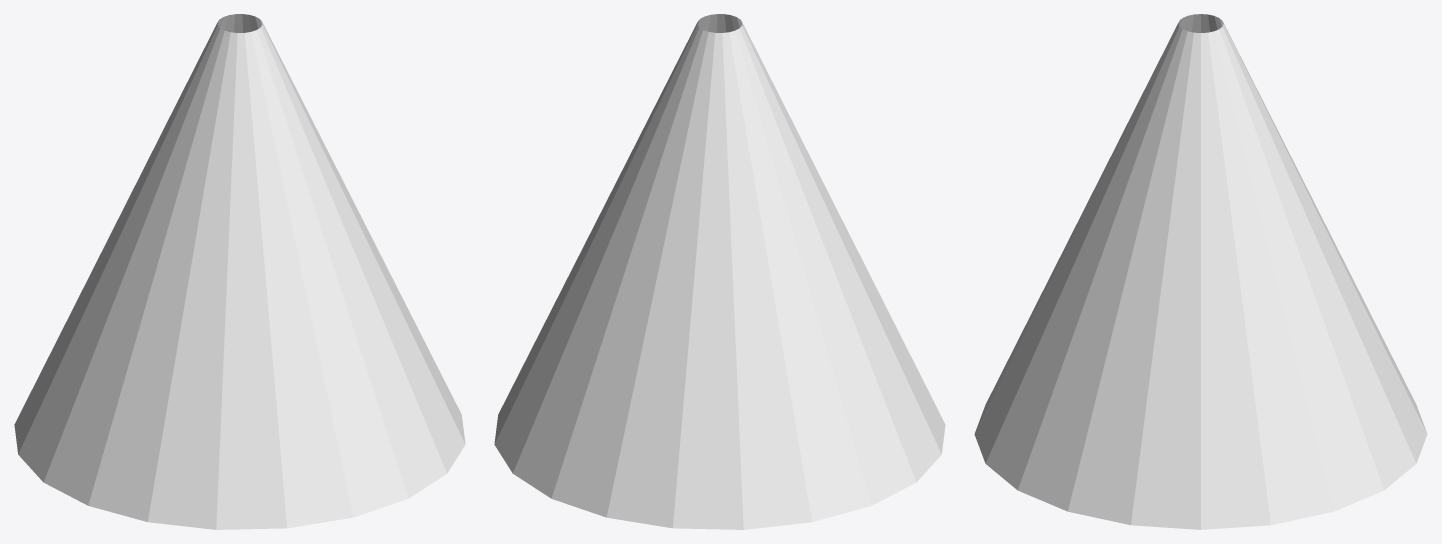
Rendered from lightcone.fbx.
3 views of the same model, side by side, from view 1: azimuth 30°, elevation 25°; view 2: azimuth 150°, elevation 25°; view 3: azimuth 270°, elevation 25° (orthographic).
Parts seen in each view (by area): view 1: lightcone; view 2: lightcone; view 3: lightcone.
Part boxes in pixels (x1,y1,x2,y2): lightcone: (14,14,465,529); lightcone: (494,14,945,529); lightcone: (974,14,1427,529).
Size of the model in its own units: 65.82 by 65.82 by 65.82.
1 material, 1 textured.
